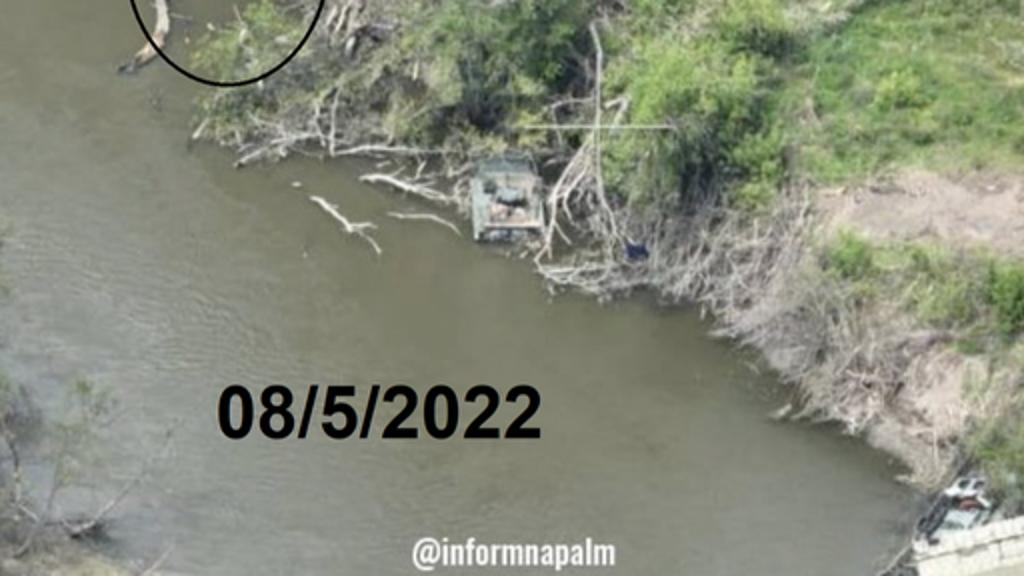APC-IFV: (458, 148, 556, 248)
